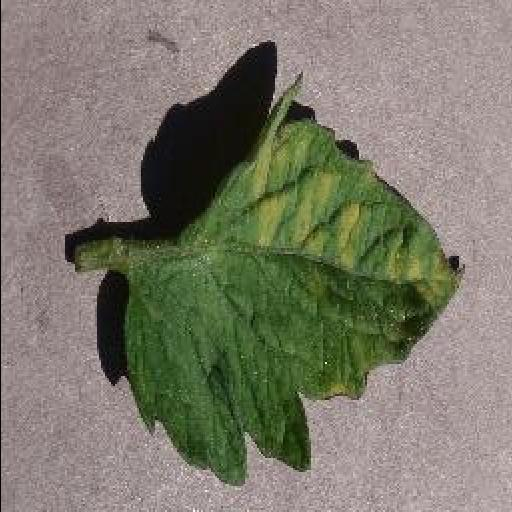disease_tomato: (121, 70, 467, 486)
